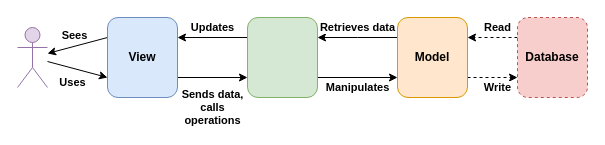
This 605x145 diagram has some shape labels left out. Here are the shapes that lost their labels. From the top down, the centre of each, then its label:
At (32,57): "Actor".
At (282,57): "Controller".
